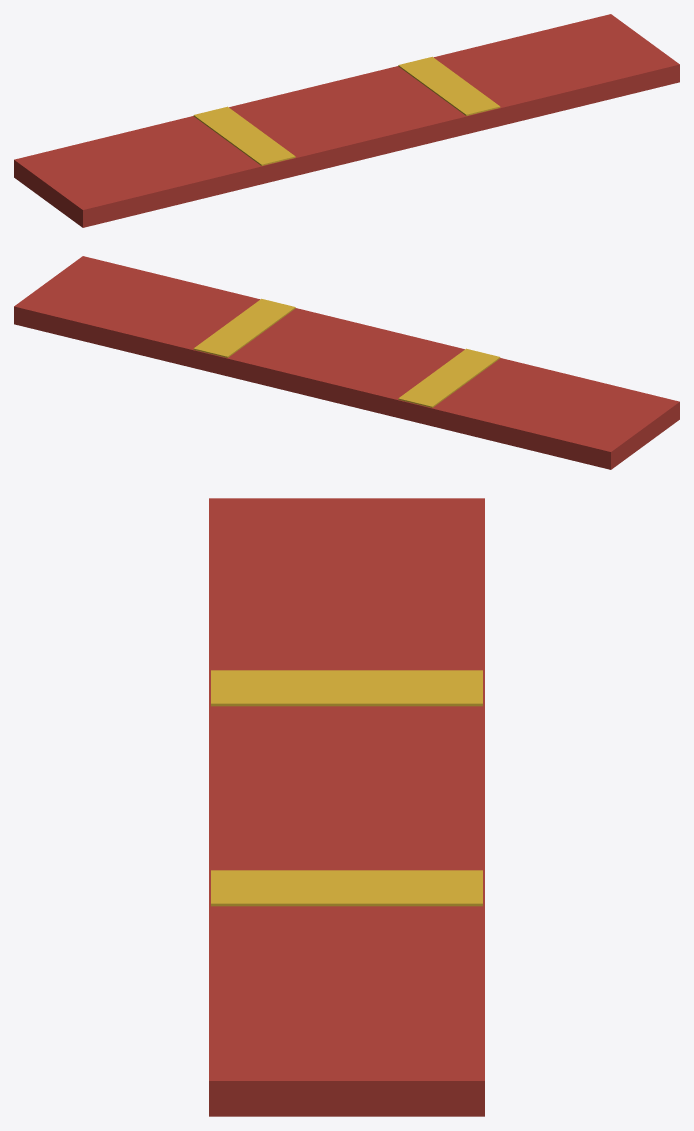
Rendered from FD_Scarf_01.glb.
3 views of the same model, one above another, from view 1: azimuth 30°, elevation 25°; view 2: azimuth 150°, elevation 25°; view 3: azimuth 270°, elevation 25° (orthographic). The views are drawn at different scales.
Visible parts, largest first — view 1: FD_Scarf_01; view 2: FD_Scarf_01; view 3: FD_Scarf_01.
Boxes of the visible parts, x1,y1,x2,y2 form: FD_Scarf_01: (14,14,679,227); FD_Scarf_01: (14,256,679,469); FD_Scarf_01: (209,498,484,1116).
Bounding box in the file's own units: 0.7 × 0.0215 × 0.14.
1 material, 1 textured.
